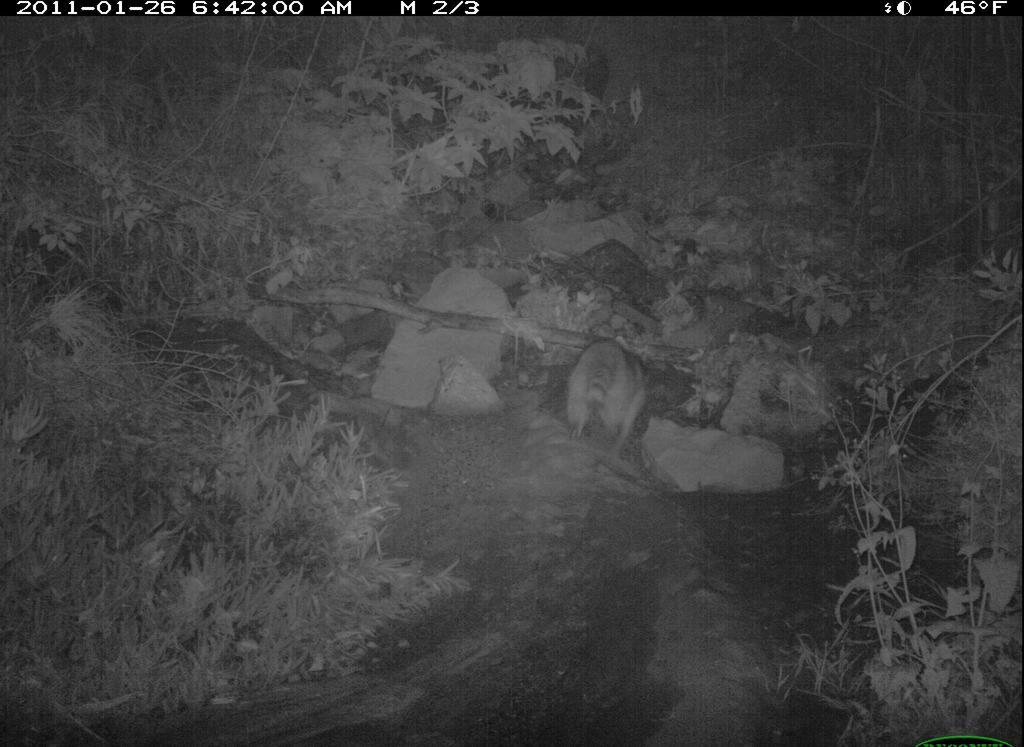raccoon: (548, 323, 670, 452)
